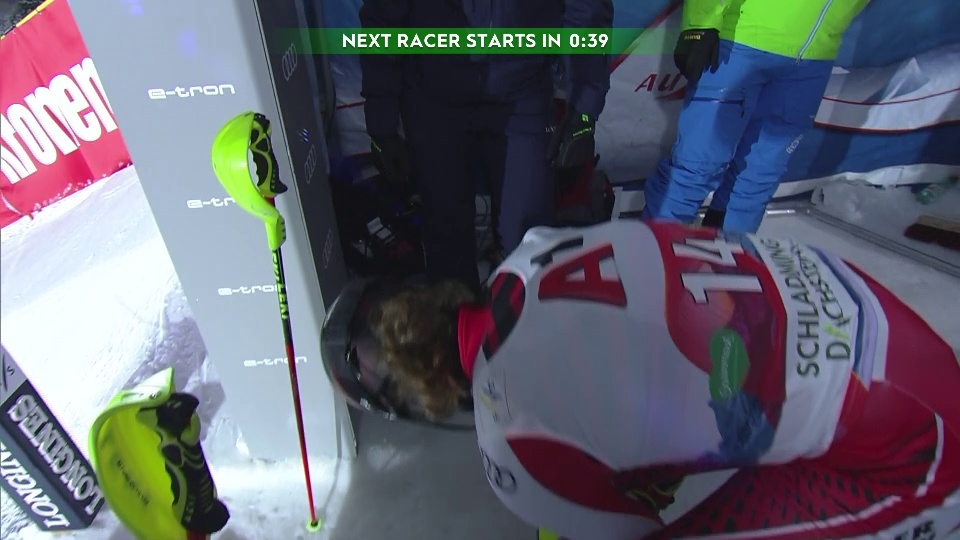a1: (535, 237, 626, 319)
audi: (280, 46, 301, 85)
etron: (144, 82, 243, 101), (215, 280, 292, 298), (242, 353, 311, 369), (185, 193, 242, 212)
kronenzeitung: (1, 54, 118, 215)
longines: (2, 392, 92, 524)
schladming: (758, 236, 858, 381)
